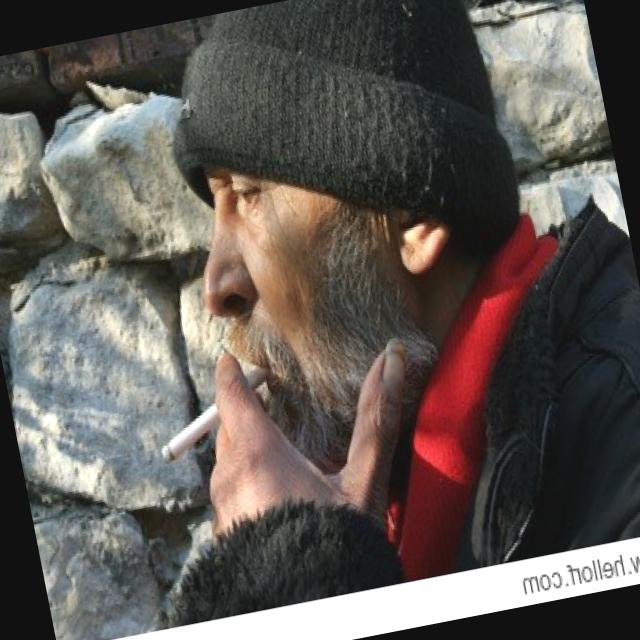smoke: (144, 356, 286, 472)
